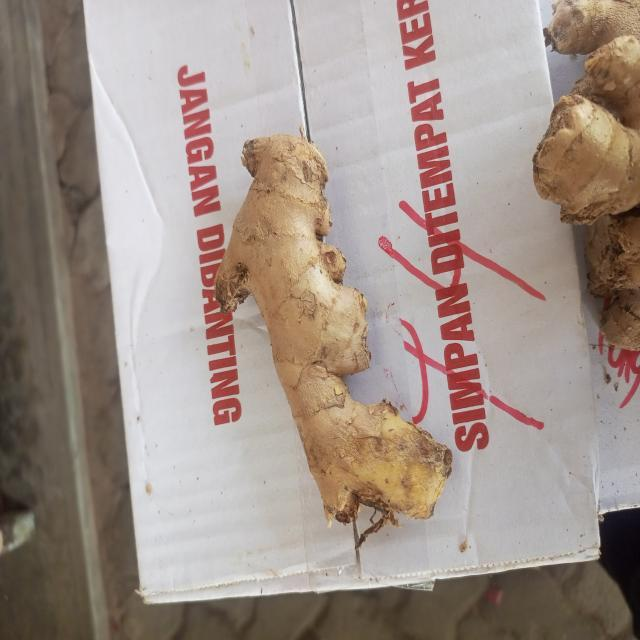ginger: (223, 137, 444, 517)
